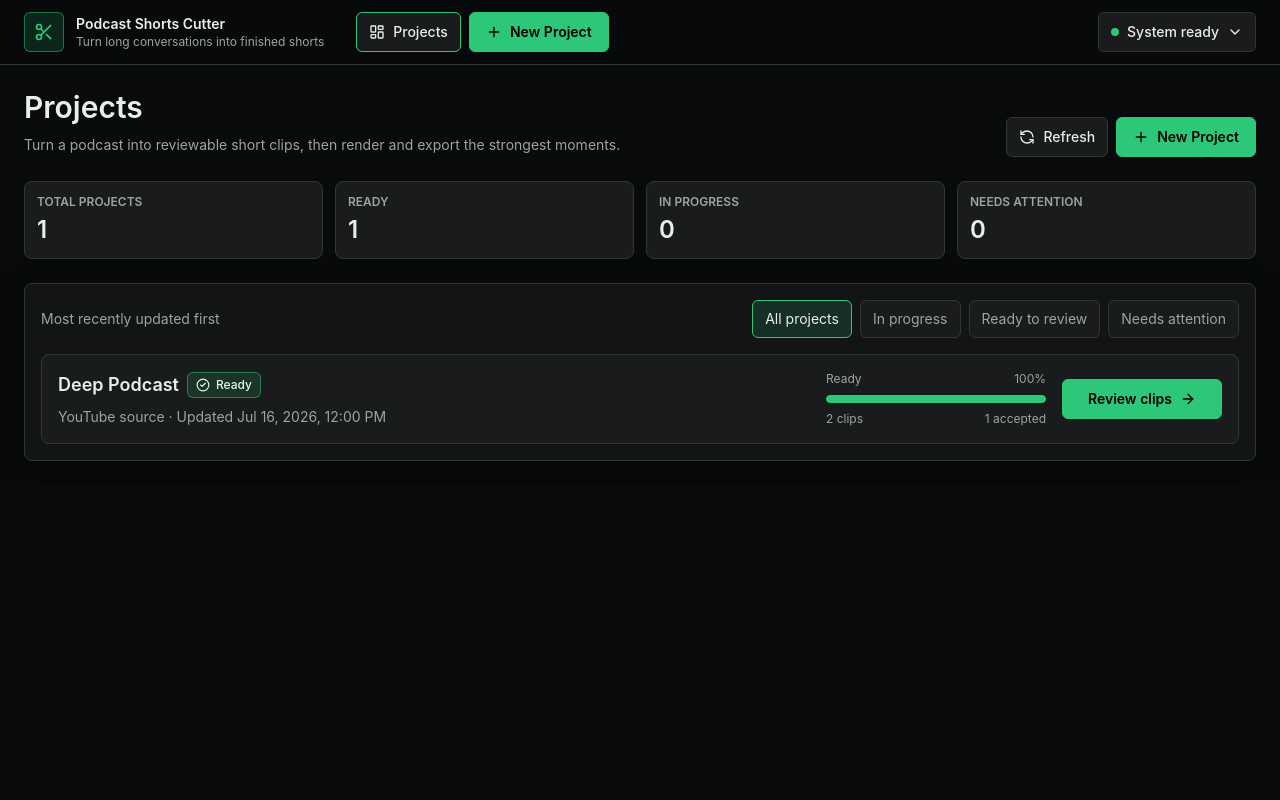
Test: Product UI › closes the system status popover after a route change
Click the button "System ready" at (1177, 32), box [1098,12,1256,52]
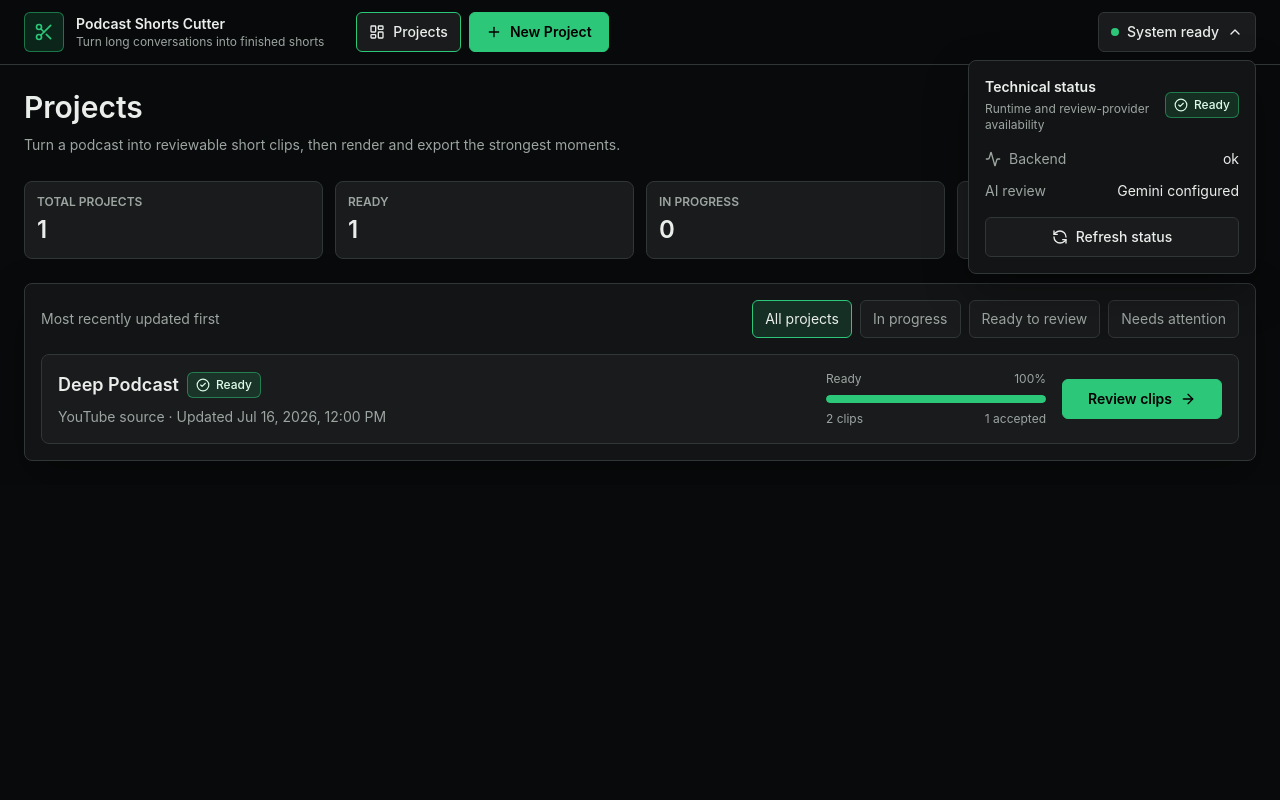
Expected: the button "System ready" is expanded, [1098,12,1256,52]
Click the link "New Project" at (539, 32), box [469,12,609,52]
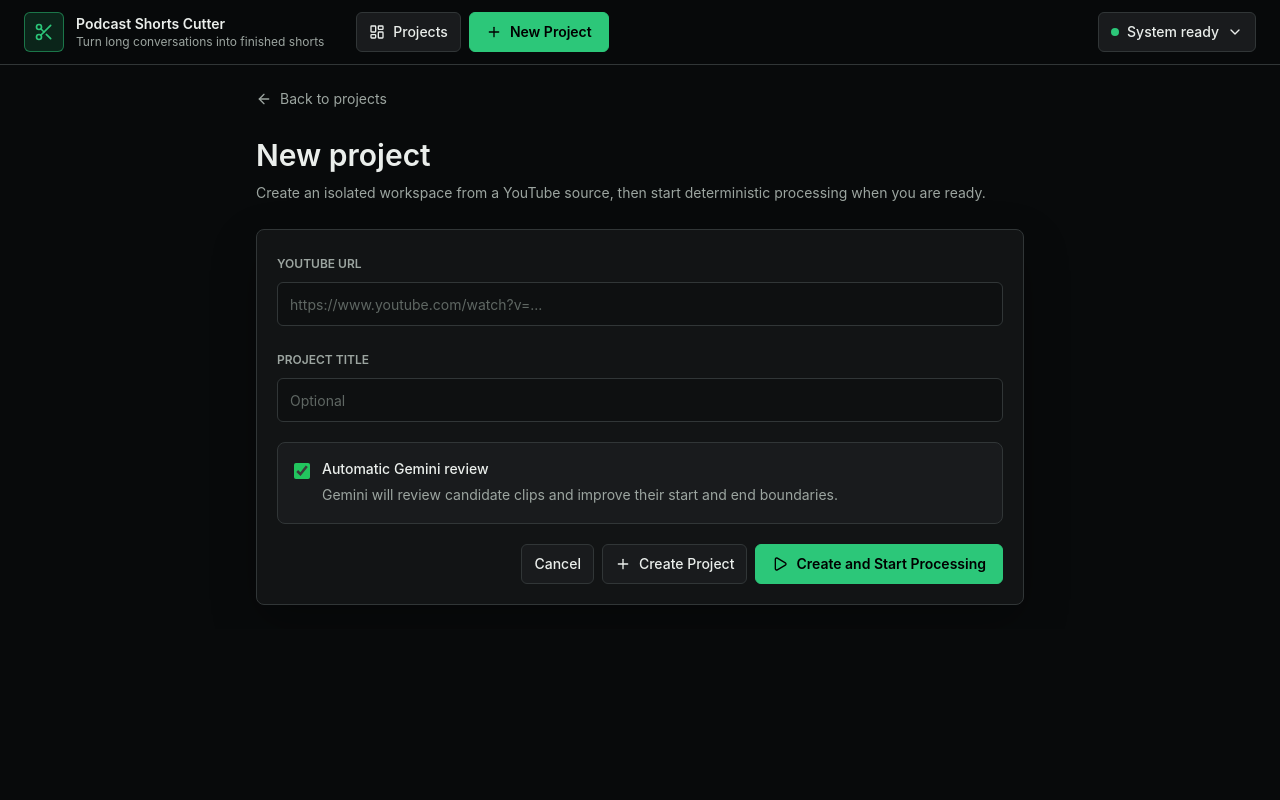
Expected: the heading "New project" is shown, [256,137,431,173]
Expected: the button "System ready" is collapsed, [1098,12,1256,52]
Expected: the text "Technical status" is gone
